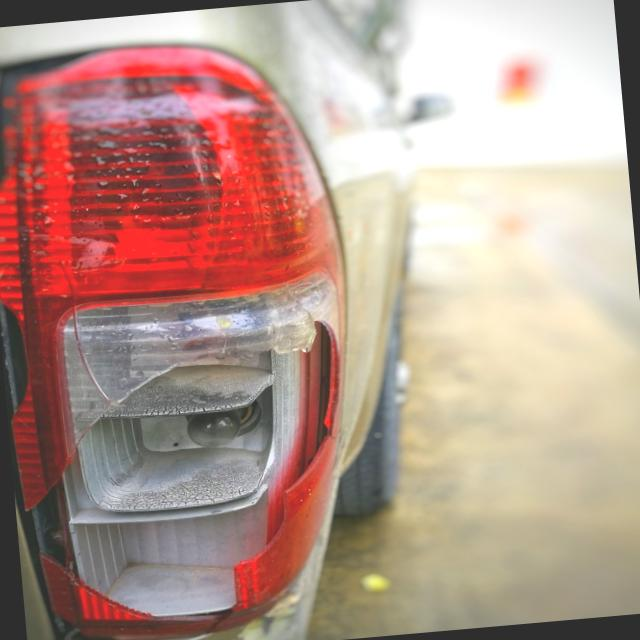Phare abime: (5, 316, 375, 636)
